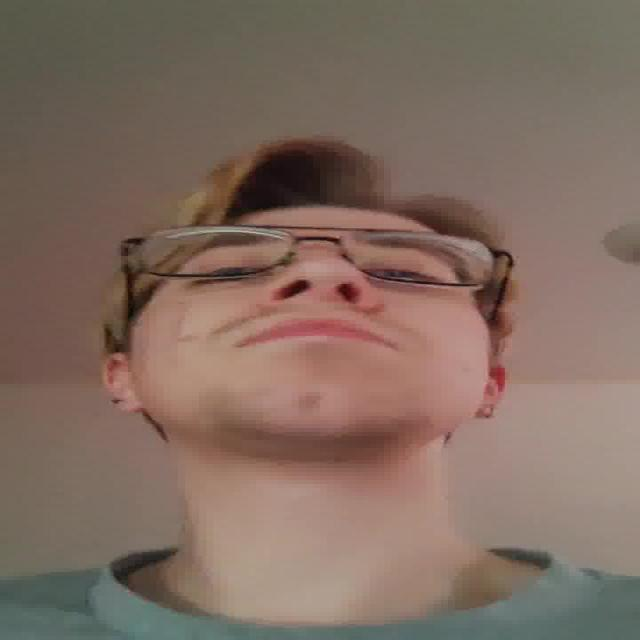earlobe: (102, 352, 146, 412), (479, 356, 512, 422)
